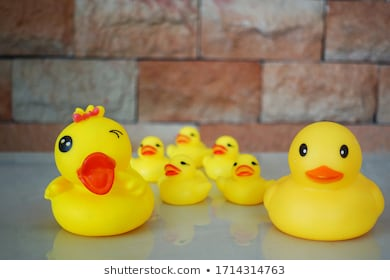duck: (17, 99, 155, 232), (263, 120, 390, 247), (220, 159, 277, 200)
